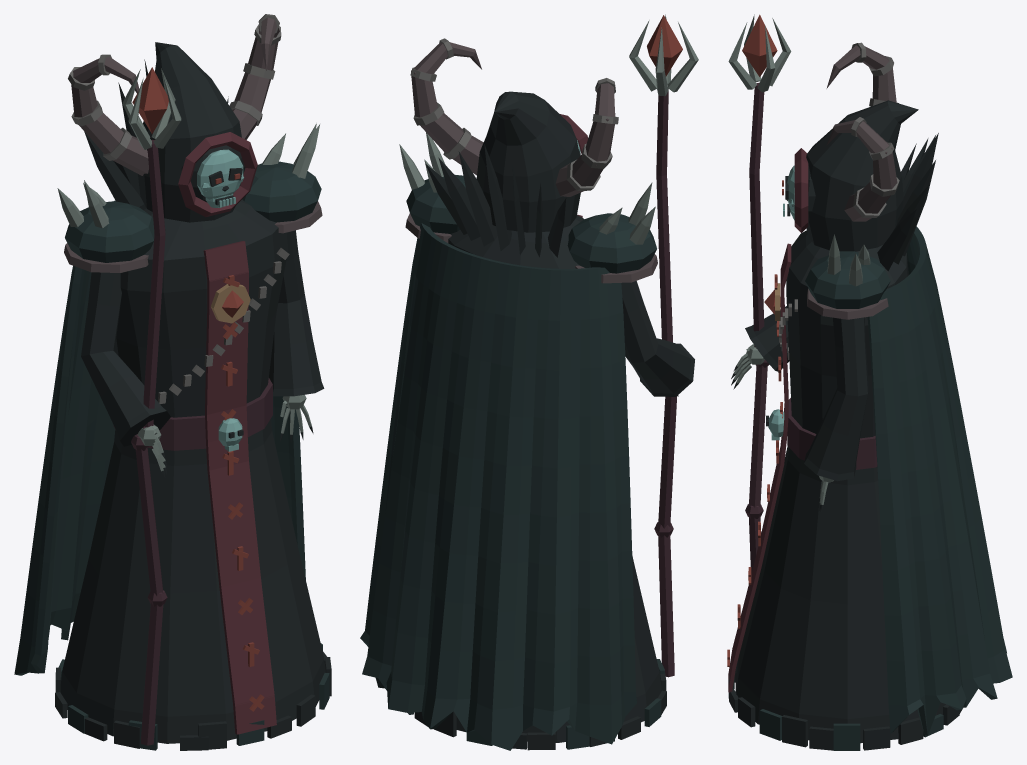
Rendered from warlock.glb.
The picture shows the model from 3 angles, left to right: view 1: azimuth 30°, elevation 25°; view 2: azimuth 150°, elevation 25°; view 3: azimuth 270°, elevation 25°; orthographic projection. The views are drawn at different scales.
Visible parts, largest first — view 1: Corp, Cap, Toiag, BratDrept, BratStang, Lumini, Cristal; view 2: Corp, Cap, Toiag, BratDrept, Cristal; view 3: Corp, Cap, Toiag, BratStang, BratDrept, Cristal, Lumini.
Part boxes in pixels (<box>): Corp: <box>14,59,331,750</box>; Cap: <box>68,14,281,222</box>; Toiag: <box>122,68,181,745</box>; BratDrept: <box>81,272,170,478</box>; BratStang: <box>269,230,324,442</box>; Lumini: <box>221,275,264,711</box>; Cristal: <box>132,67,168,133</box>; Corp: <box>360,132,666,750</box>; Cap: <box>410,38,618,232</box>; Toiag: <box>629,14,698,677</box>; BratDrept: <box>621,281,694,396</box>; Cristal: <box>647,15,682,76</box>; Corp: <box>728,133,1012,750</box>; Cap: <box>783,42,918,251</box>; Toiag: <box>728,14,791,573</box>; BratStang: <box>804,317,868,512</box>; BratDrept: <box>731,306,789,389</box>; Cristal: <box>742,14,777,76</box>; Lumini: <box>727,274,782,666</box>.
Size of the model in its own units: 1.12 by 2.64 by 1.07.
